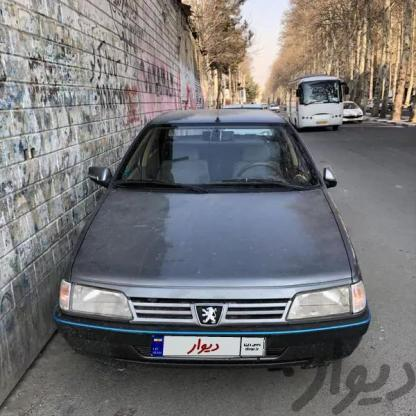Bus: (288, 65, 352, 148)
Car: (61, 111, 372, 383), (335, 103, 378, 129)
